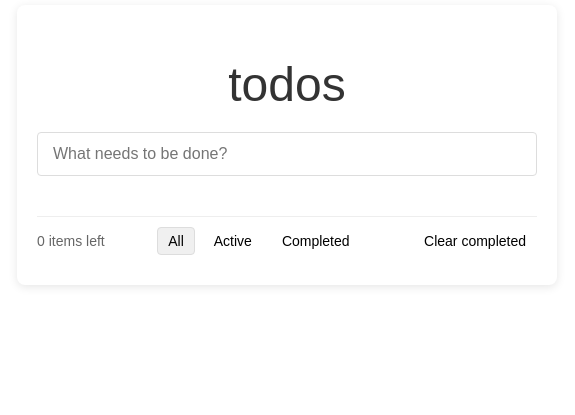
Test: TodoApp › clears completed todos
In the field with placeholder "What needs to be done?": [287, 154] box x1=37 y1=132 x2=537 y2=176, type "Active todo"
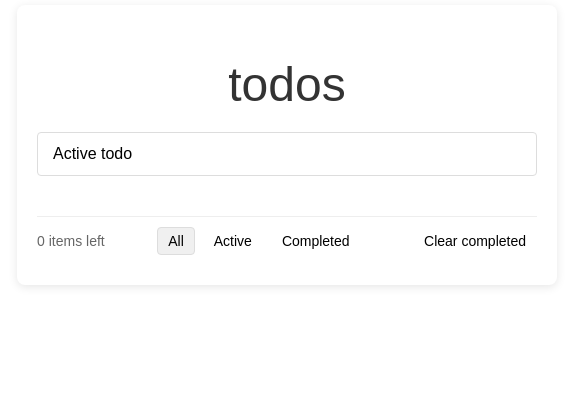
Submit the form from the field with placeholder "What needs to be done?", box x1=37 y1=132 x2=537 y2=176
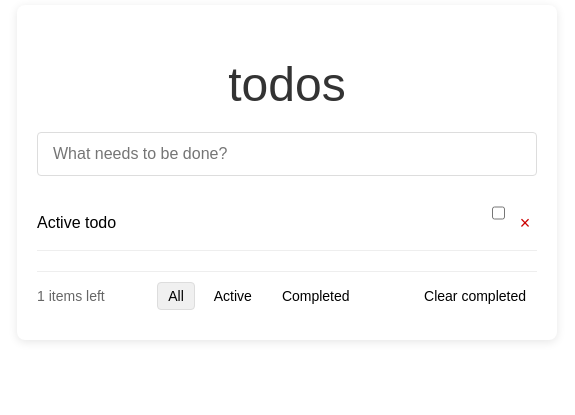
In the field with placeholder "What needs to be done?": [287, 154] box x1=37 y1=132 x2=537 y2=176, type "Completed todo"
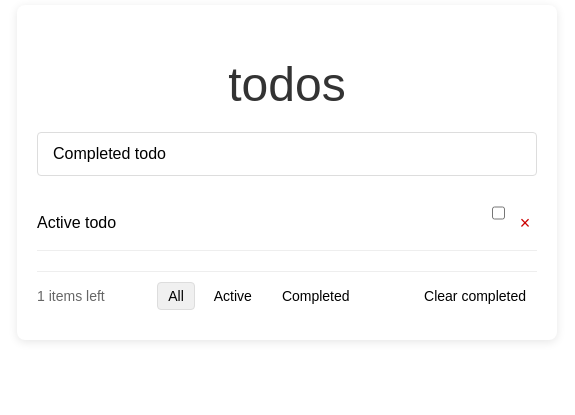
Submit the form from the field with placeholder "What needs to be done?", box x1=37 y1=132 x2=537 y2=176
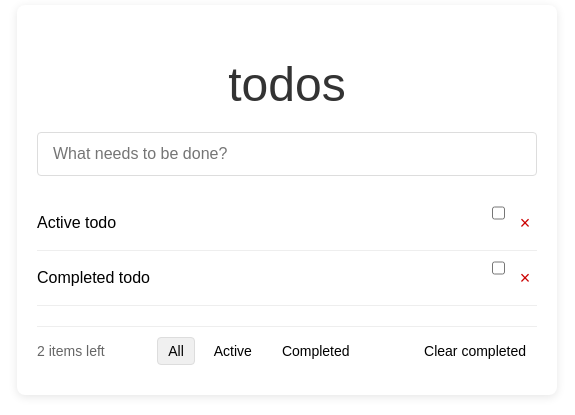
Click the checkbox in the row of "Completed todo": [498, 268] box x1=492 y1=259 x2=505 y2=277
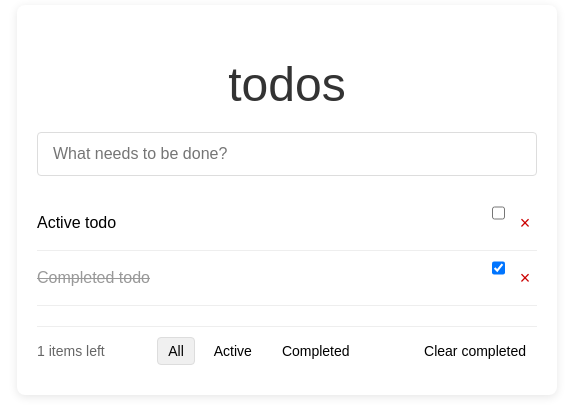
Click the button "Clear completed": [475, 351] box x1=413 y1=337 x2=537 y2=365
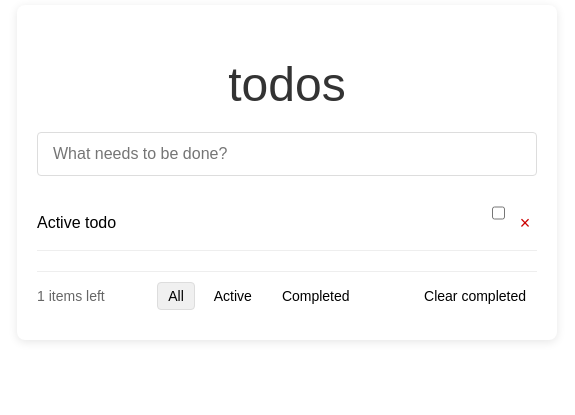
Expected: the text "Active todo" is shown, x1=37 y1=214 x2=116 y2=231
Expected: the text "Completed todo" is gone
